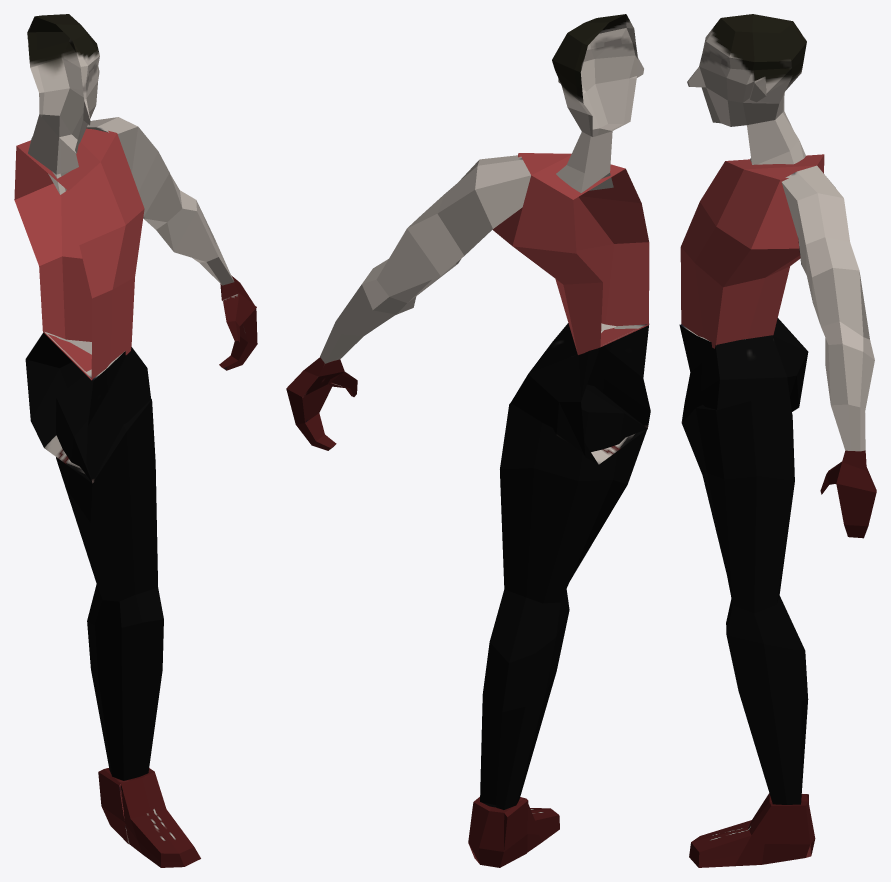
File: character.glb
3 renders of one model, left to right at view 1: azimuth 30°, elevation 25°; view 2: azimuth 150°, elevation 25°; view 3: azimuth 270°, elevation 25°, orthographic. The views are drawn at different scales.
Visible parts, largest first — view 1: leg, Torso, Head, pelvis, arm, shoe, hand; view 2: leg, Torso, arm, Head, pelvis, shoe, hand; view 3: leg, Torso, arm, Head, pelvis, shoe, hand.
Part boxes in pixels (box(x1,y1,x2,y2)): leg: box(56, 374, 163, 780); Torso: box(14, 128, 144, 380); Head: box(27, 14, 99, 194); pelvis: box(25, 331, 150, 483); arm: box(86, 117, 234, 285); shoe: box(98, 768, 200, 867); hand: box(219, 275, 257, 370); leg: box(480, 384, 647, 809); Torso: box(492, 153, 649, 354); arm: box(320, 155, 530, 363); Head: box(552, 14, 643, 192); pelvis: box(510, 323, 650, 464); shoe: box(468, 797, 559, 867); hand: box(286, 357, 357, 450); leg: box(682, 400, 808, 804); Torso: box(680, 154, 824, 348); arm: box(781, 165, 874, 451); Head: box(687, 14, 806, 164); pelvis: box(679, 318, 808, 423); shoe: box(689, 793, 815, 867); hand: box(820, 450, 876, 538).
Bounding box in the file's own units: 0.6824 × 2.1 × 0.4688.
Materials: 1 (1 with a texture image).
